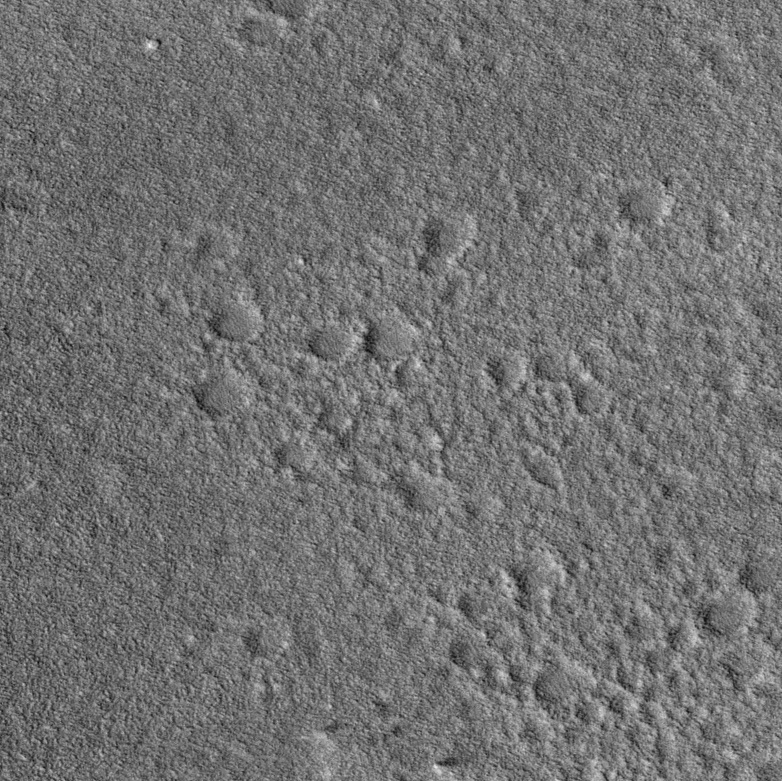dust_devil: (430, 755, 460, 777)
